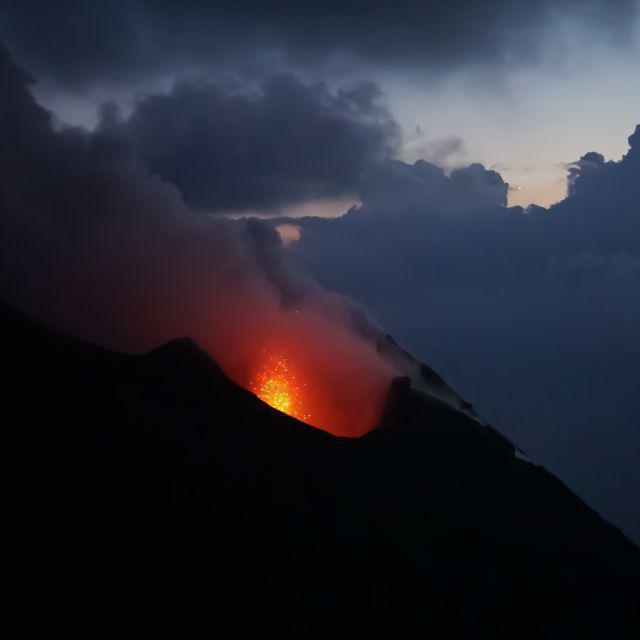Fire: (242, 342, 296, 426)
Smoke: (67, 161, 262, 346), (9, 8, 510, 78), (296, 310, 371, 410)
